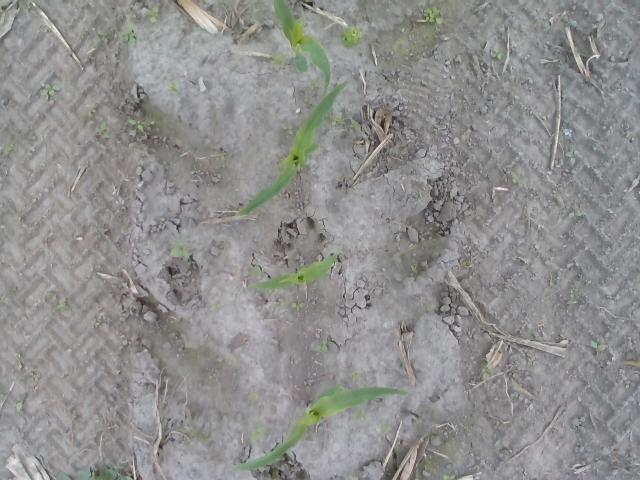Maize: (238, 78, 348, 222), (232, 384, 409, 472), (272, 0, 332, 97), (250, 250, 340, 290)
Weeds: (54, 460, 134, 480), (340, 24, 366, 49), (168, 238, 192, 262), (119, 20, 138, 48), (423, 5, 448, 25), (250, 425, 272, 447), (126, 117, 156, 133), (191, 424, 211, 446), (94, 30, 114, 49), (95, 121, 112, 143), (270, 50, 290, 68), (562, 144, 576, 168), (479, 360, 495, 381), (247, 391, 264, 410), (40, 83, 62, 97), (47, 295, 65, 312), (590, 336, 609, 352), (351, 406, 369, 422), (311, 338, 333, 351), (149, 0, 161, 23), (512, 171, 527, 188), (81, 103, 96, 120), (328, 112, 346, 126), (5, 142, 17, 161), (282, 122, 298, 136), (572, 416, 586, 432), (248, 266, 268, 277), (493, 48, 508, 60), (22, 0, 33, 16), (290, 302, 306, 313), (168, 80, 180, 94), (306, 79, 321, 90), (214, 150, 227, 162), (29, 369, 40, 383), (16, 352, 24, 370), (379, 422, 392, 433), (440, 473, 456, 480), (15, 399, 22, 414), (570, 288, 576, 304), (431, 126, 443, 134), (350, 120, 362, 128), (210, 304, 222, 312), (357, 0, 368, 8), (409, 265, 418, 273), (352, 372, 359, 382), (175, 9, 181, 16)
